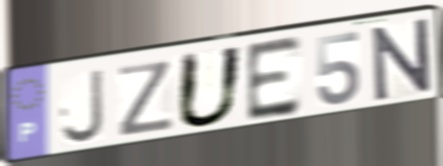5: (314, 29, 362, 108)
E: (243, 33, 303, 126)
J: (58, 66, 107, 147)
N: (370, 15, 435, 105)
U: (173, 43, 247, 131)
Z: (116, 58, 177, 140)
